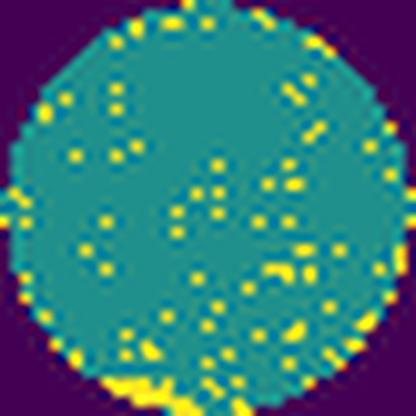Edge-Loc: (99, 372, 207, 416)
